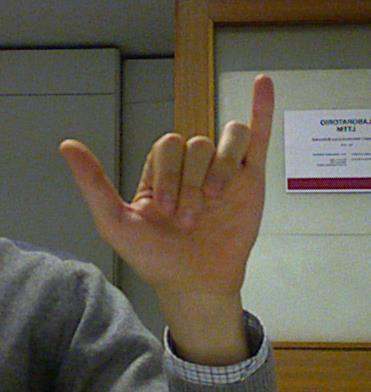clockwise: (61, 73, 281, 294)
